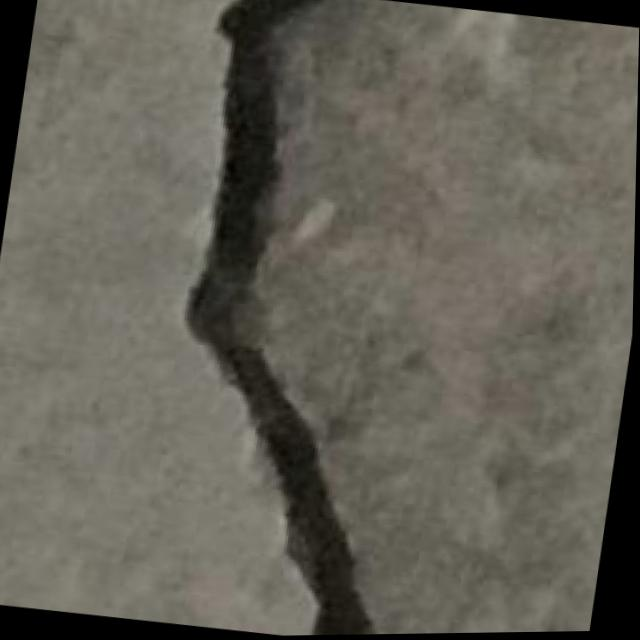Crack: (132, 0, 469, 638)
